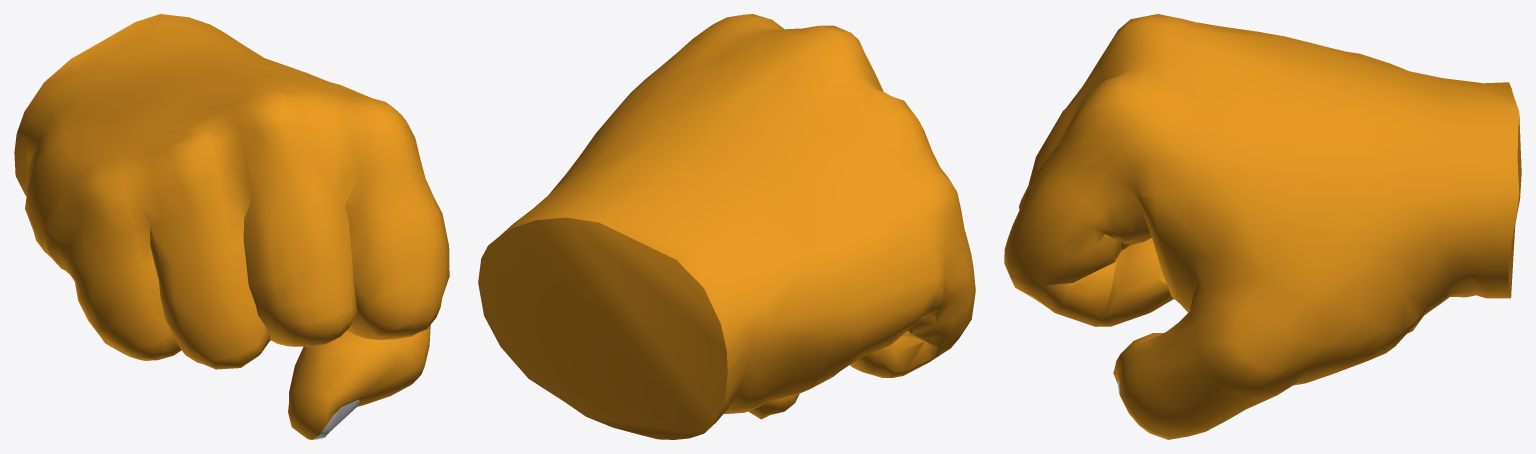
Rendered from hand deff.fbx.
The picture shows the model from 3 angles, left to right: view 1: azimuth 30°, elevation 25°; view 2: azimuth 150°, elevation 25°; view 3: azimuth 270°, elevation 25°; orthographic projection. The views are drawn at different scales.
Parts seen in each view (by area): view 1: flesh, nails; view 2: flesh; view 3: flesh.
Part boxes in pixels (bbox=[...]): flesh: bbox=[14, 14, 449, 439]; nails: bbox=[312, 400, 359, 439]; flesh: bbox=[478, 14, 975, 439]; flesh: bbox=[1004, 14, 1521, 439].
Bounding box in the file's own units: 296 × 269 × 337.
